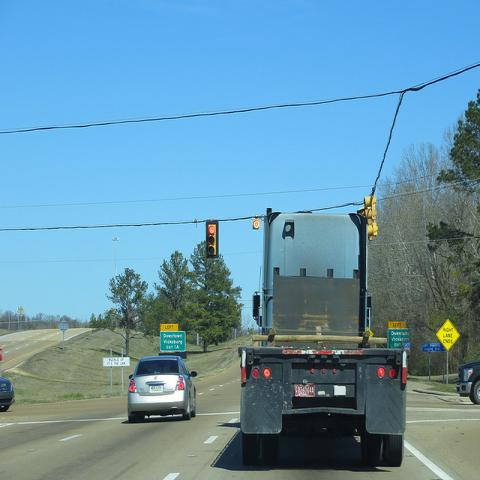car: (127, 355, 198, 422), (0, 376, 15, 413)
truck: (236, 209, 411, 472), (456, 360, 479, 406)
